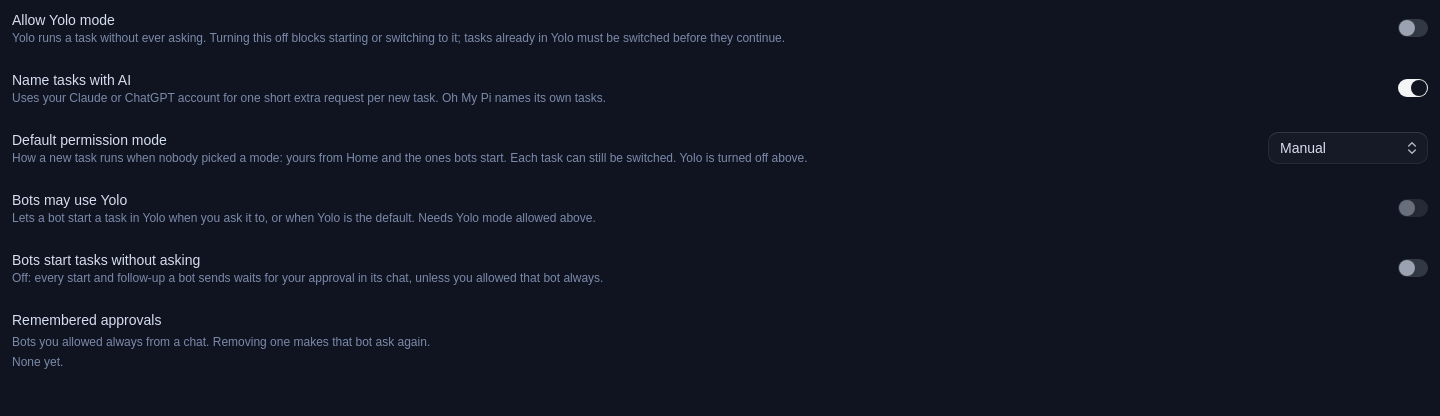
Scenario: shows a stored off setting and reports a failed save without flipping the switch
What coordinates should you click on to do the following:
click the switch named "Allow Yolo mode"
I would click on:
 (1413, 28)
Its box is [1398, 19, 1428, 37].
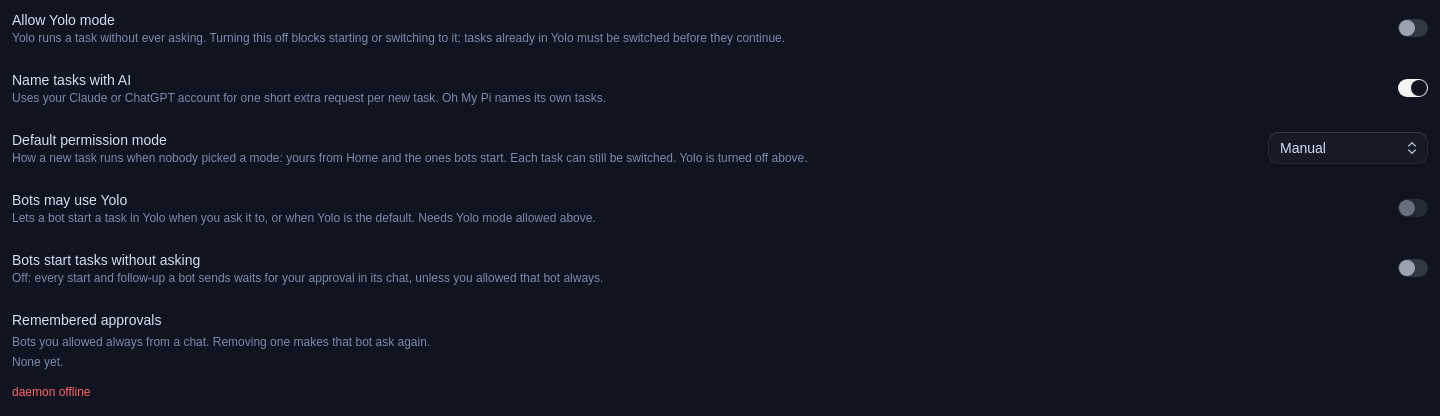
Check: the message reads "daemon offline", box [12, 385, 90, 399]
